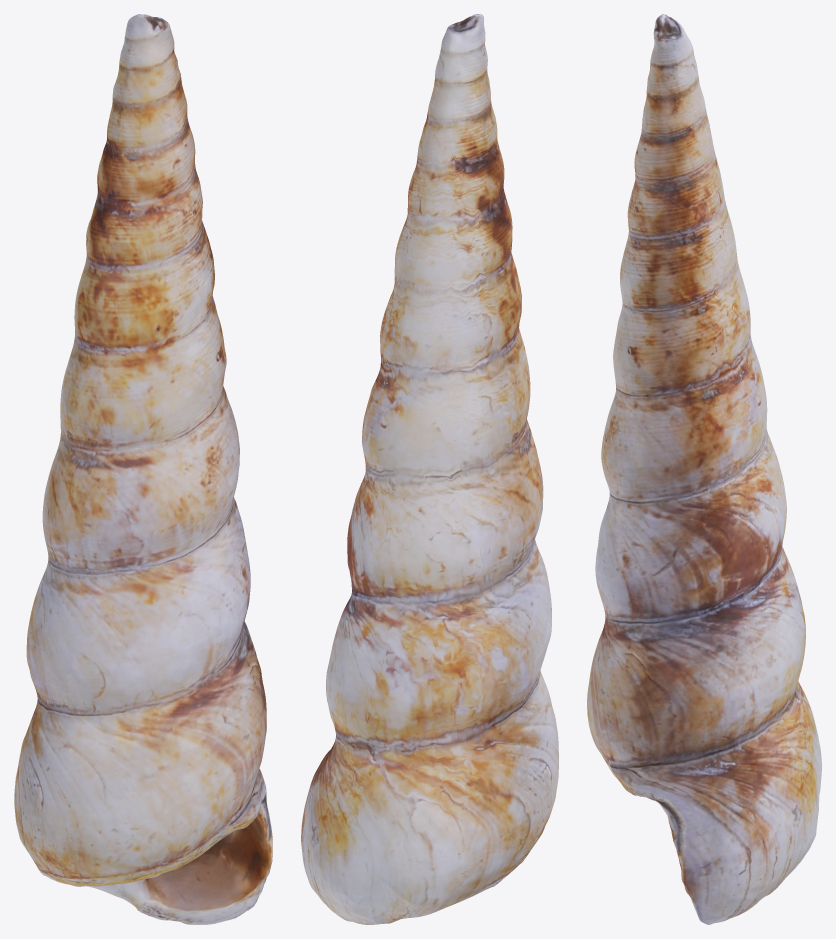
File: piece-007.glb
3 views of the same model, side by side, from view 1: azimuth 30°, elevation 25°; view 2: azimuth 150°, elevation 25°; view 3: azimuth 270°, elevation 25° (orthographic). The views are drawn at different scales.
Parts seen in each view (by area): view 1: Object_4, Object_5, Object_3, Object_2; view 2: Object_3, Object_2, Object_5, Object_4; view 3: Object_3, Object_5, Object_4, Object_2.
Part boxes in pixels (x1,y1,x2,y2): Object_4: [27, 14, 271, 924]; Object_5: [14, 118, 272, 872]; Object_3: [20, 15, 250, 856]; Object_2: [14, 17, 266, 918]; Object_3: [306, 16, 558, 896]; Object_2: [311, 27, 530, 924]; Object_5: [356, 120, 526, 915]; Object_4: [301, 14, 558, 893]; Object_3: [600, 37, 819, 850]; Object_5: [587, 128, 821, 897]; Object_4: [591, 14, 804, 924]; Object_2: [596, 21, 816, 918].
Bounding box in the file's own units: 0.1792 × 0.6905 × 0.1706.
4 materials, 4 textured.
